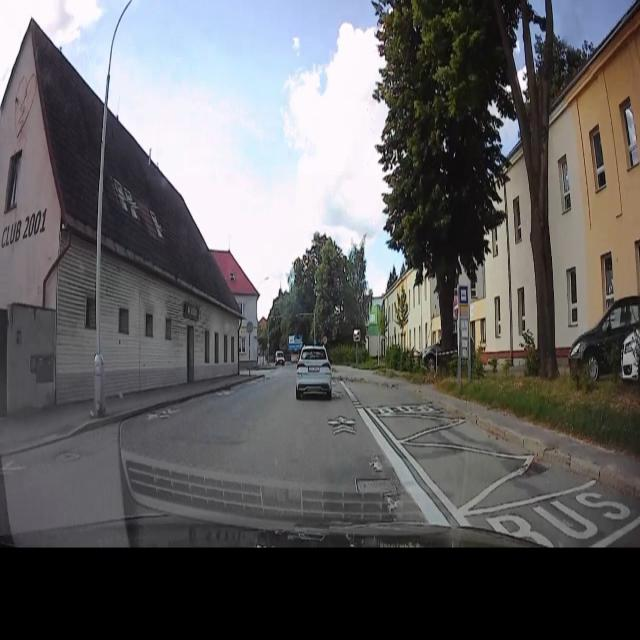Pedestrian crosswalk: (314, 338, 317, 344)
